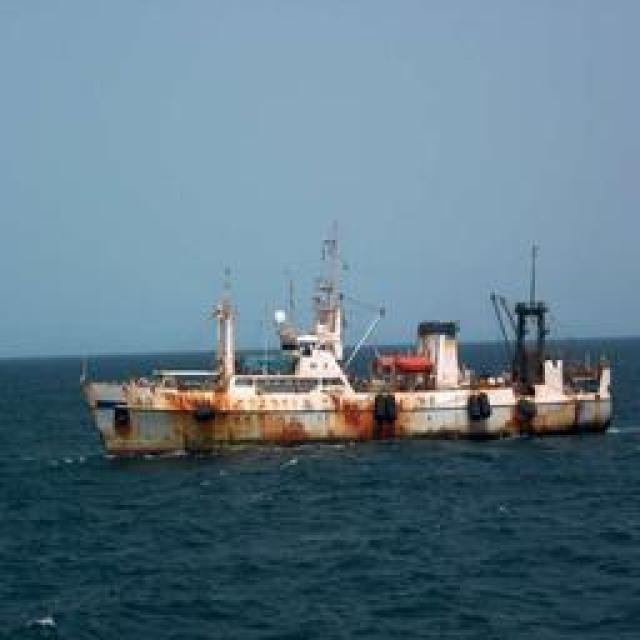CIV_Ship: (94, 220, 606, 445)
